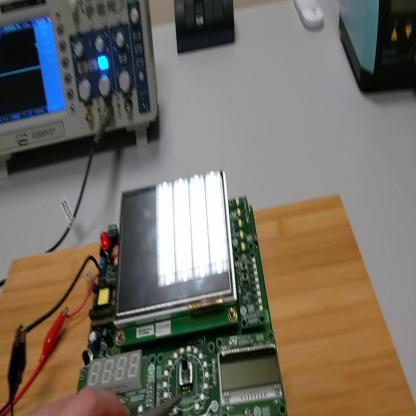hand: (34, 388, 127, 414)
low voltage board: (28, 176, 288, 416)
oscilloscope: (2, 1, 160, 176)
oscilloscope probe tip: (142, 393, 183, 416)
welder station: (341, 1, 415, 94)
working area: (2, 193, 415, 414)
